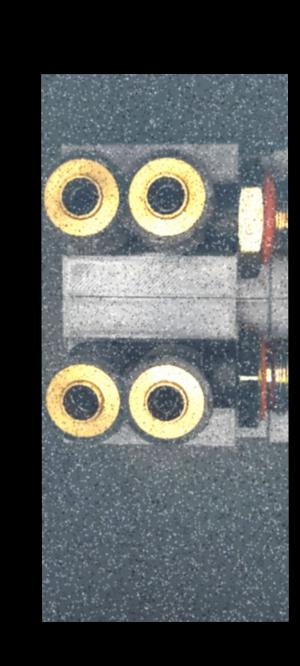bump: (202, 189, 214, 210), (188, 222, 200, 233)
off-centered: (146, 384, 184, 418), (64, 384, 98, 413)
white mark: (228, 207, 237, 217)
